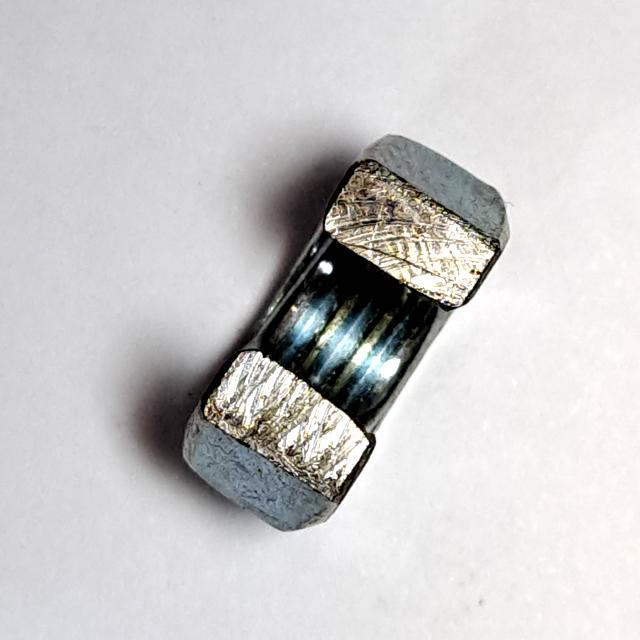Side-Fracture: (162, 119, 522, 545)
